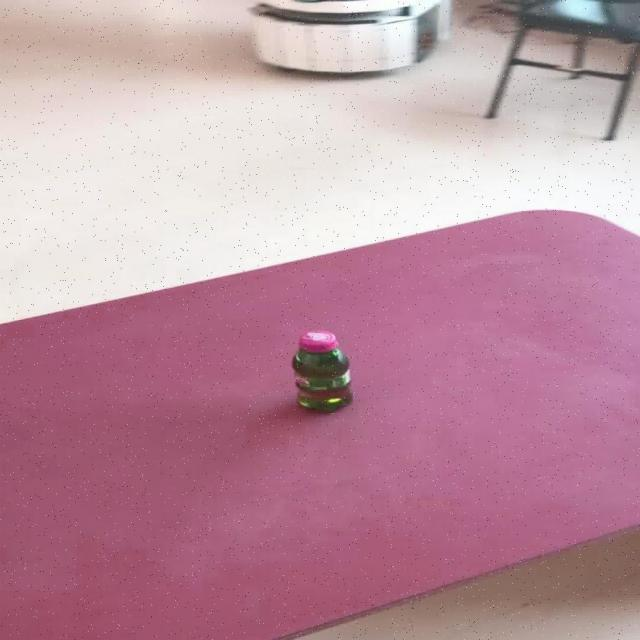Guarana: (292, 328, 356, 412)
